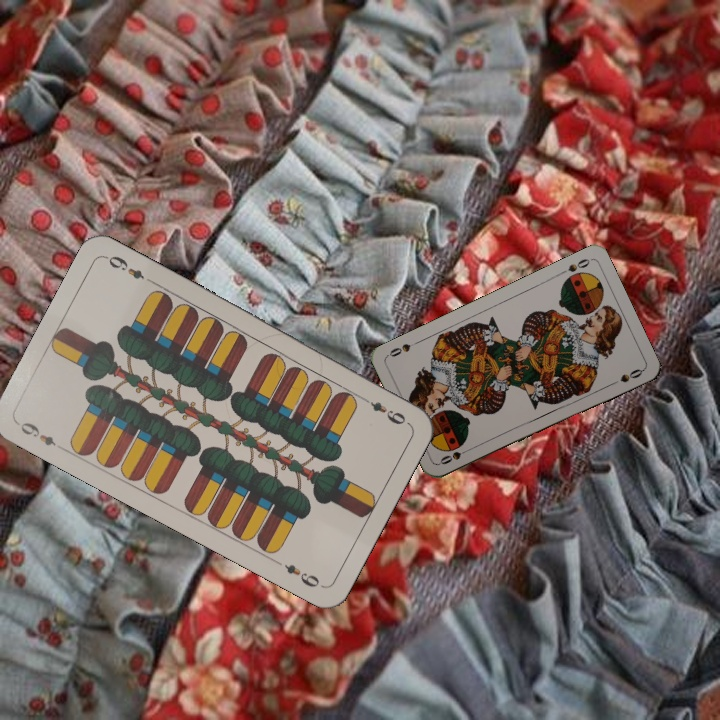E9: (357, 392, 409, 428), (16, 418, 59, 449)
SO: (555, 254, 593, 278), (436, 444, 474, 467)
